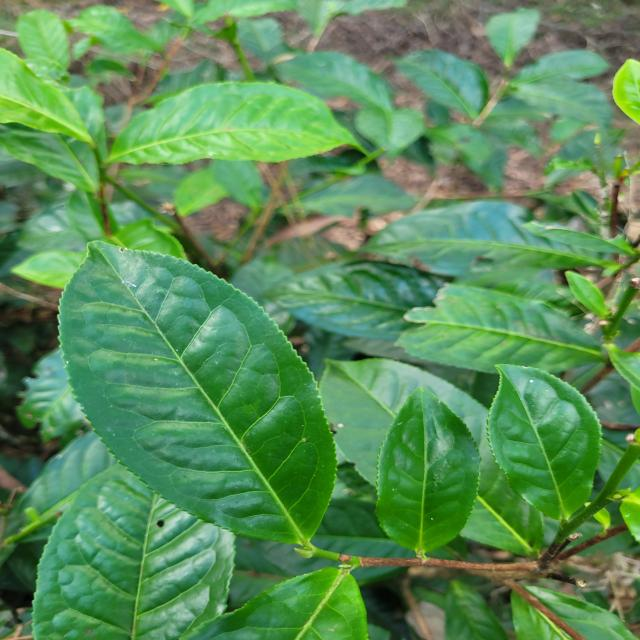Category D(7+ days, Not for Tea): (47, 223, 360, 562)
